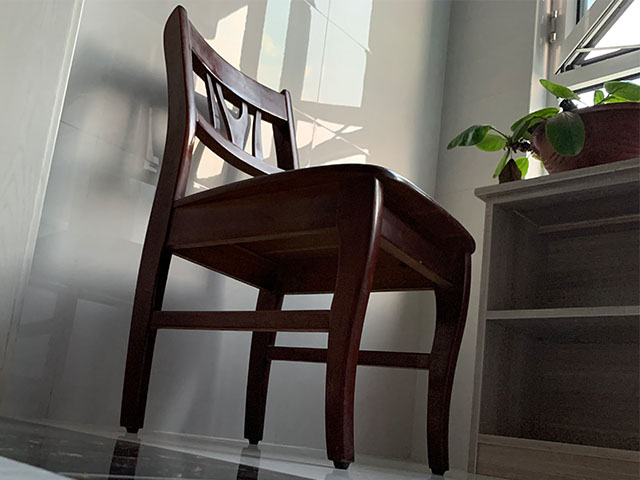stool: (119, 4, 476, 475)
